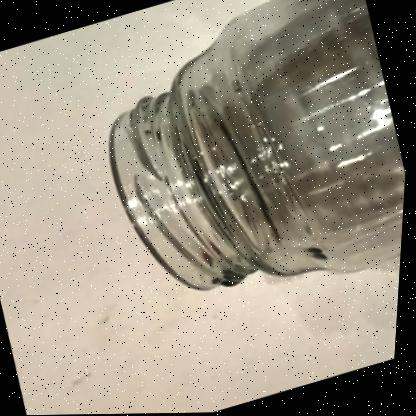Glass: (112, 0, 408, 288)
